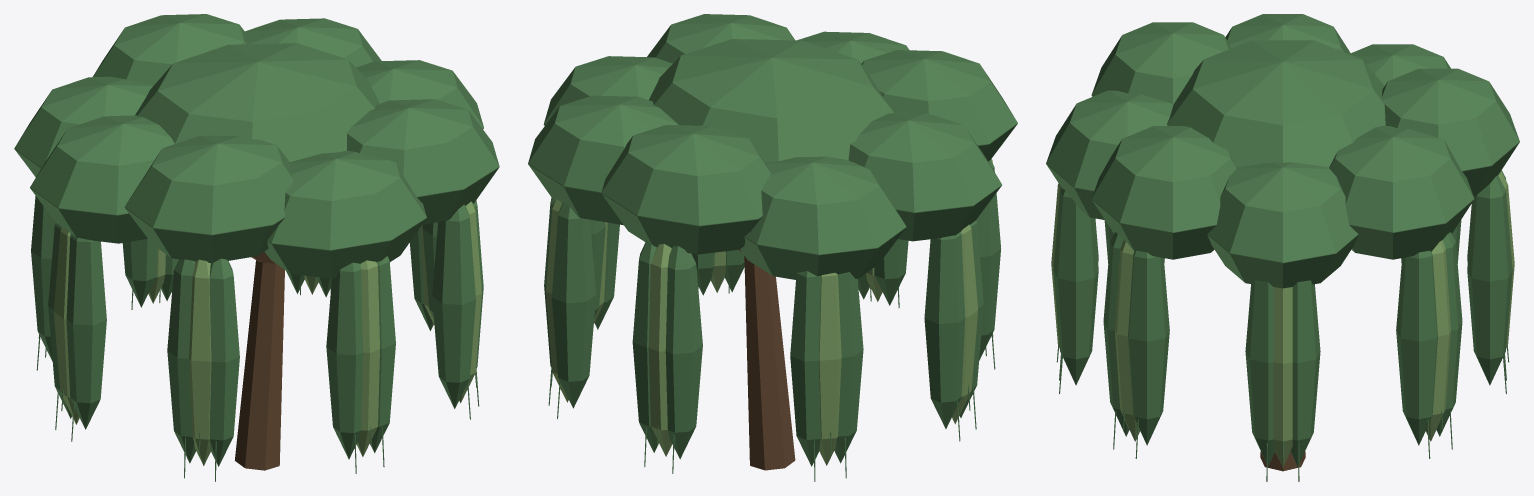
File: b08_weeping_willow.glb
3 renders of one model, left to right at view 1: azimuth 30°, elevation 25°; view 2: azimuth 150°, elevation 25°; view 3: azimuth 270°, elevation 25°, orthographic.
Visible parts, largest first — view 1: b08_weeping_willow; view 2: b08_weeping_willow; view 3: b08_weeping_willow.
Boxes of the visible parts, x1,y1,x2,y2 form: b08_weeping_willow: (14, 14, 499, 481); b08_weeping_willow: (528, 14, 1017, 481); b08_weeping_willow: (1046, 14, 1519, 481).
Bounding box in the file's own units: 5.77 × 5.11 × 5.49.
